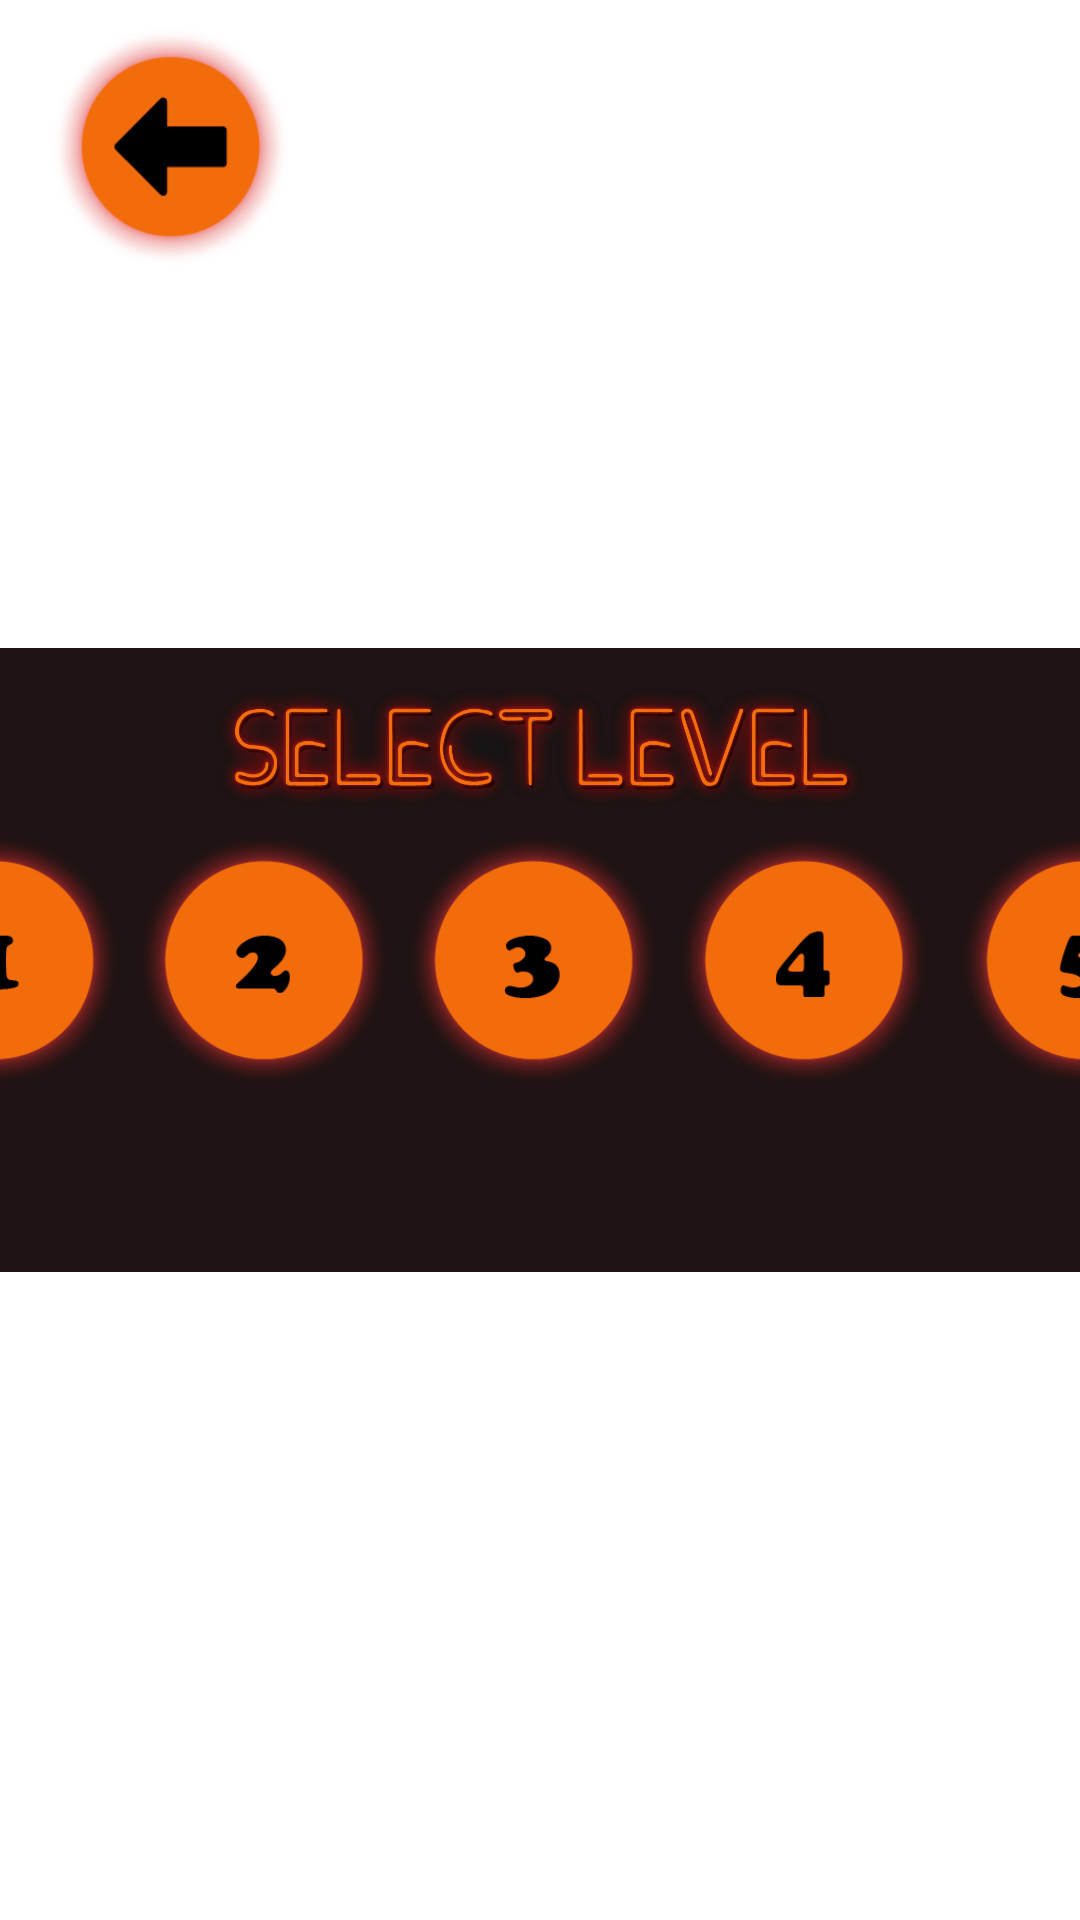

Screen size 1080px x 1920px. Icon name, then its center in pixels as (x,y):
back: (171,147)
